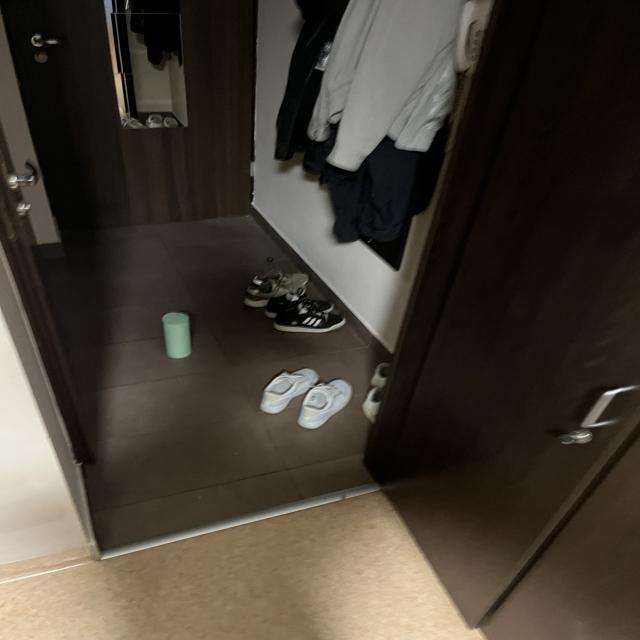meta: (162, 312, 192, 359)
